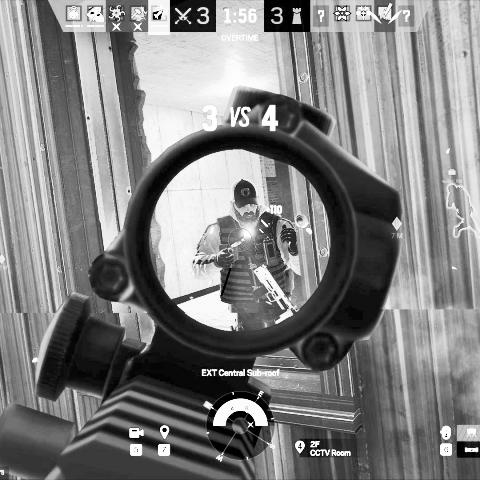Character: (191, 177, 304, 332)
Friend_label: (442, 168, 463, 184)
Head: (229, 177, 261, 225)
